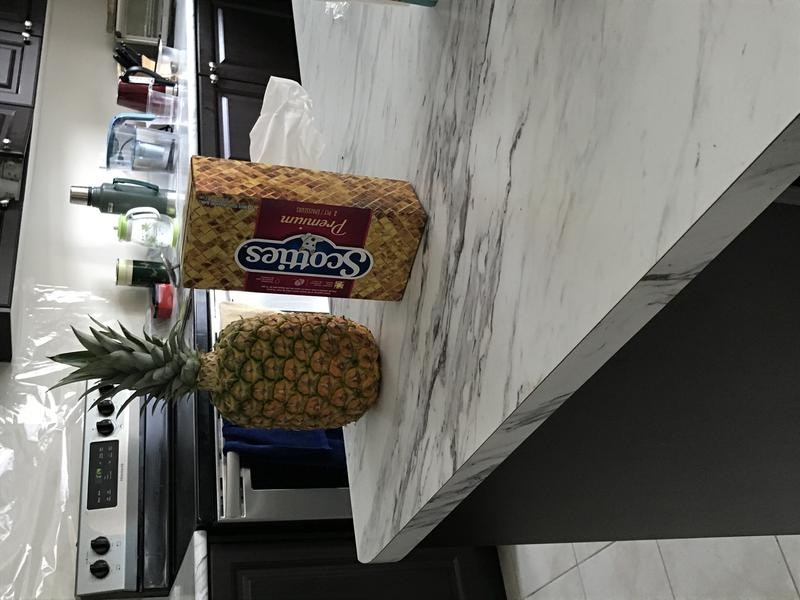pineapple: (36, 303, 388, 435)
